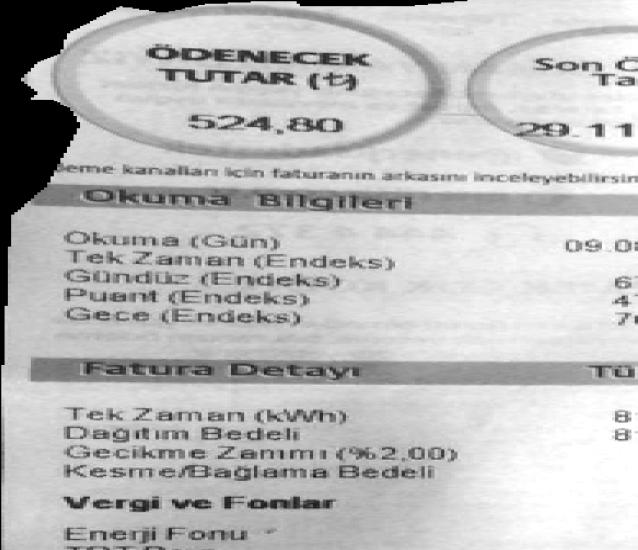electricity-bill: (1, 0, 638, 550)
